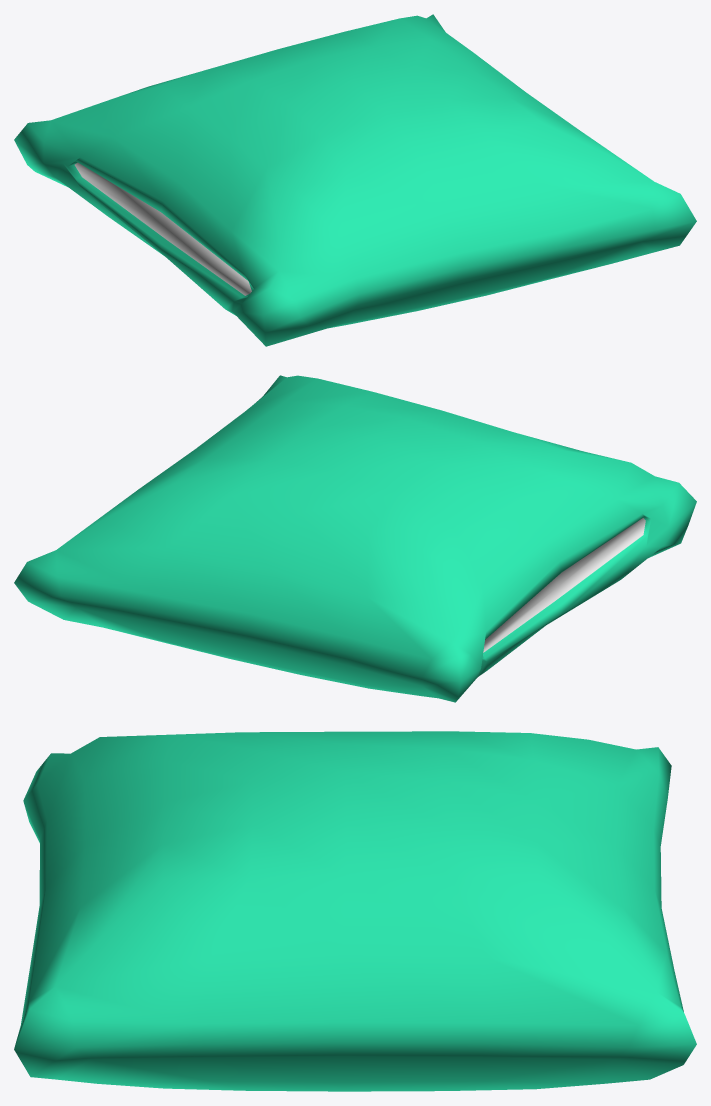
The model's file is props_pillow.fbx.
3 renders of one model, top to bottom at view 1: azimuth 30°, elevation 25°; view 2: azimuth 150°, elevation 25°; view 3: azimuth 270°, elevation 25°, orthographic. The views are drawn at different scales.
Visible parts, largest first — view 1: props_pillow; view 2: props_pillow; view 3: props_pillow.
Boxes of the visible parts, left/top/right/bottom form: props_pillow: left=14, top=14, right=696, bottom=346; props_pillow: left=14, top=375, right=696, bottom=702; props_pillow: left=14, top=731, right=696, bottom=1091.
Bounding box in the file's own units: 1.42 × 1.47 × 0.6282.
